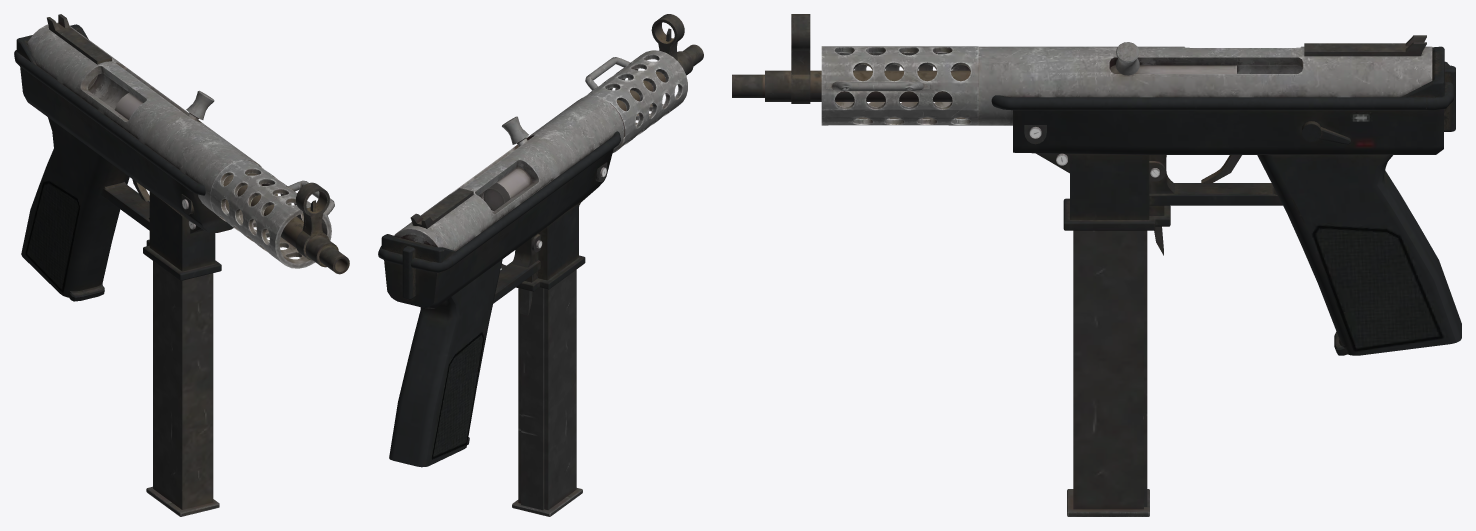
The model's file is smg1.glb.
3 views of the same model, side by side, from view 1: azimuth 30°, elevation 25°; view 2: azimuth 150°, elevation 25°; view 3: azimuth 270°, elevation 25° (orthographic). The views are drawn at different scales.
Parts seen in each view (by area): view 1: body; view 2: body; view 3: body.
Boxes of the visible parts, x1=… form: body: x1=14, y1=14, x2=349, y2=516; body: x1=378, y1=14, x2=703, y2=516; body: x1=732, y1=14, x2=1461, y2=516.
Size of the model in its own units: 0.0468 by 0.2377 by 0.32.
Materials: 1 (1 with a texture image).
